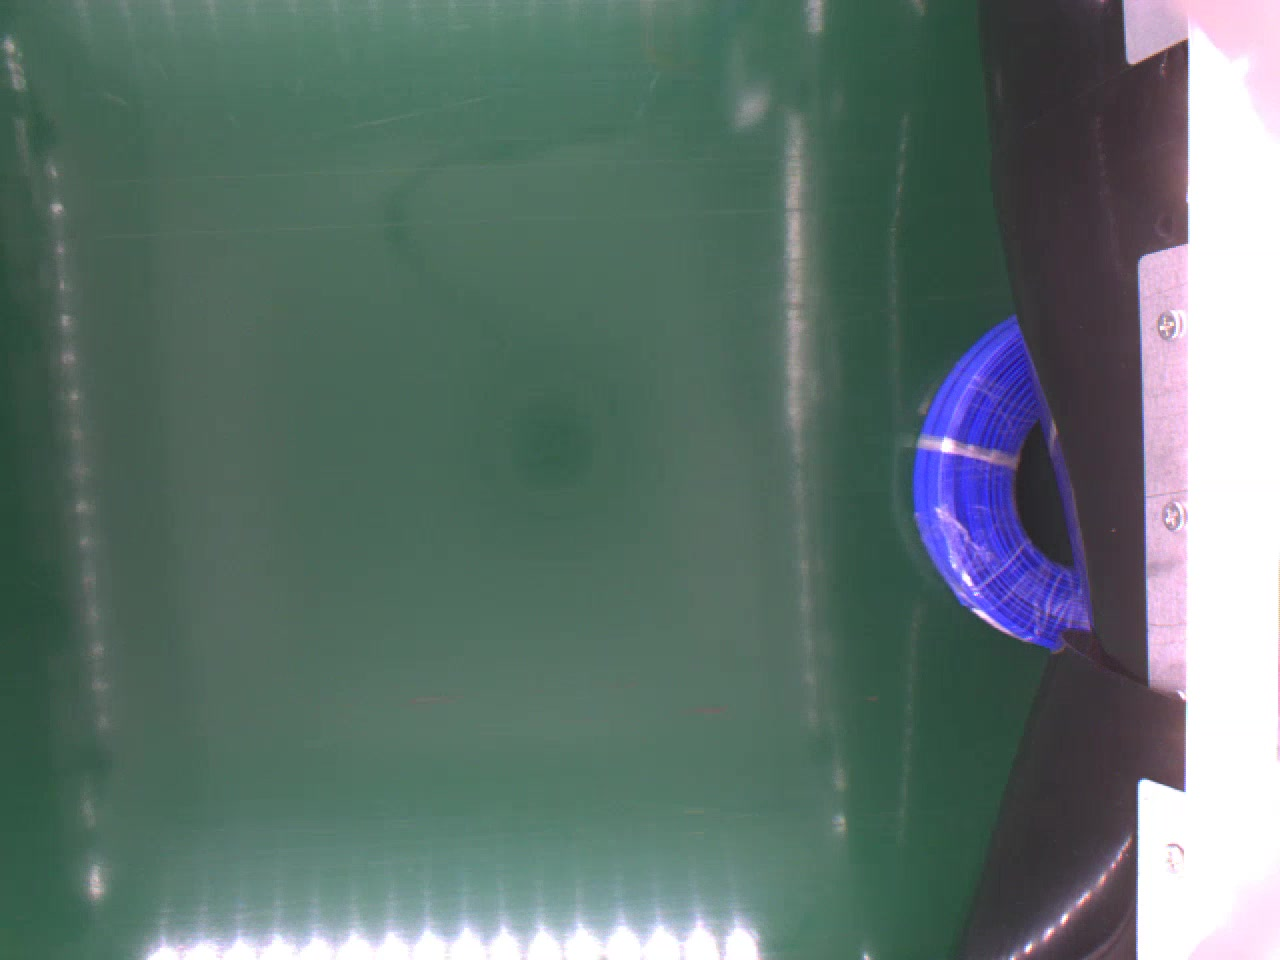blue: (905, 307, 1083, 656)
